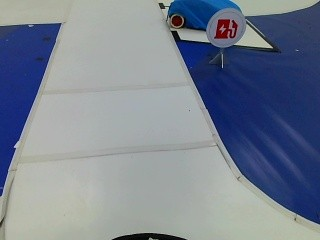battery: (208, 8, 243, 45)
car: (165, 0, 244, 29)
